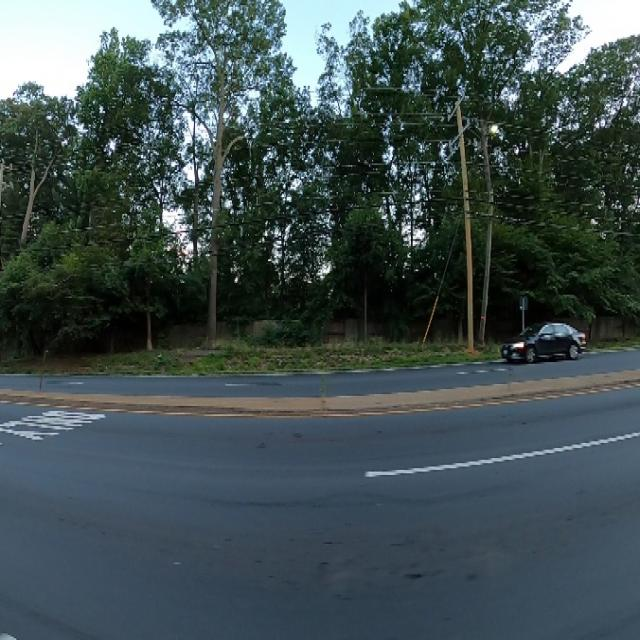car: (496, 310, 591, 369)
